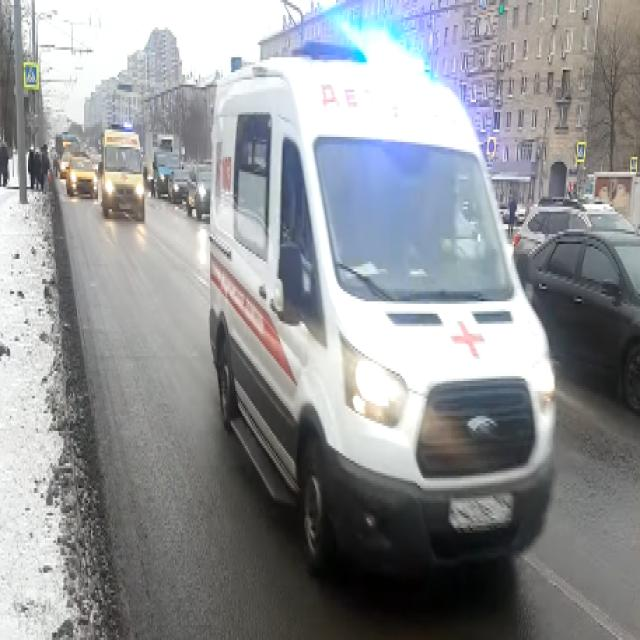ambulance: (209, 36, 558, 586)
intensive care unit: (103, 123, 145, 220)
non emergency car: (527, 223, 639, 415), (69, 157, 100, 199), (188, 164, 209, 222), (168, 167, 189, 207)
